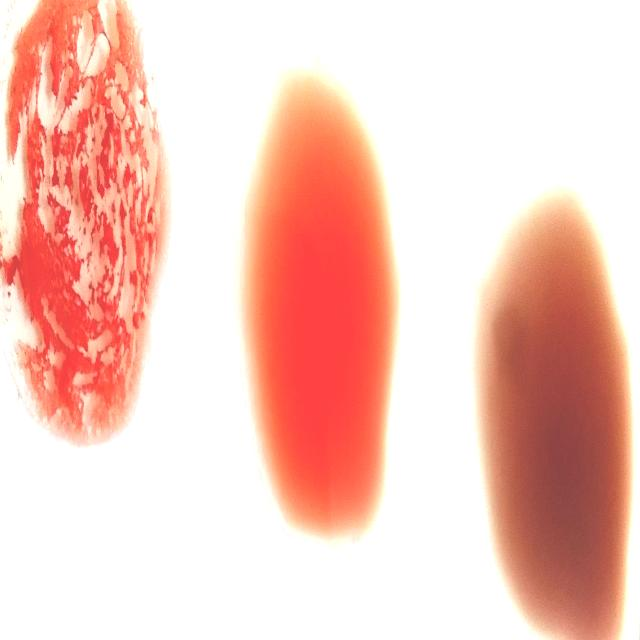D: (3, 0, 157, 449)
